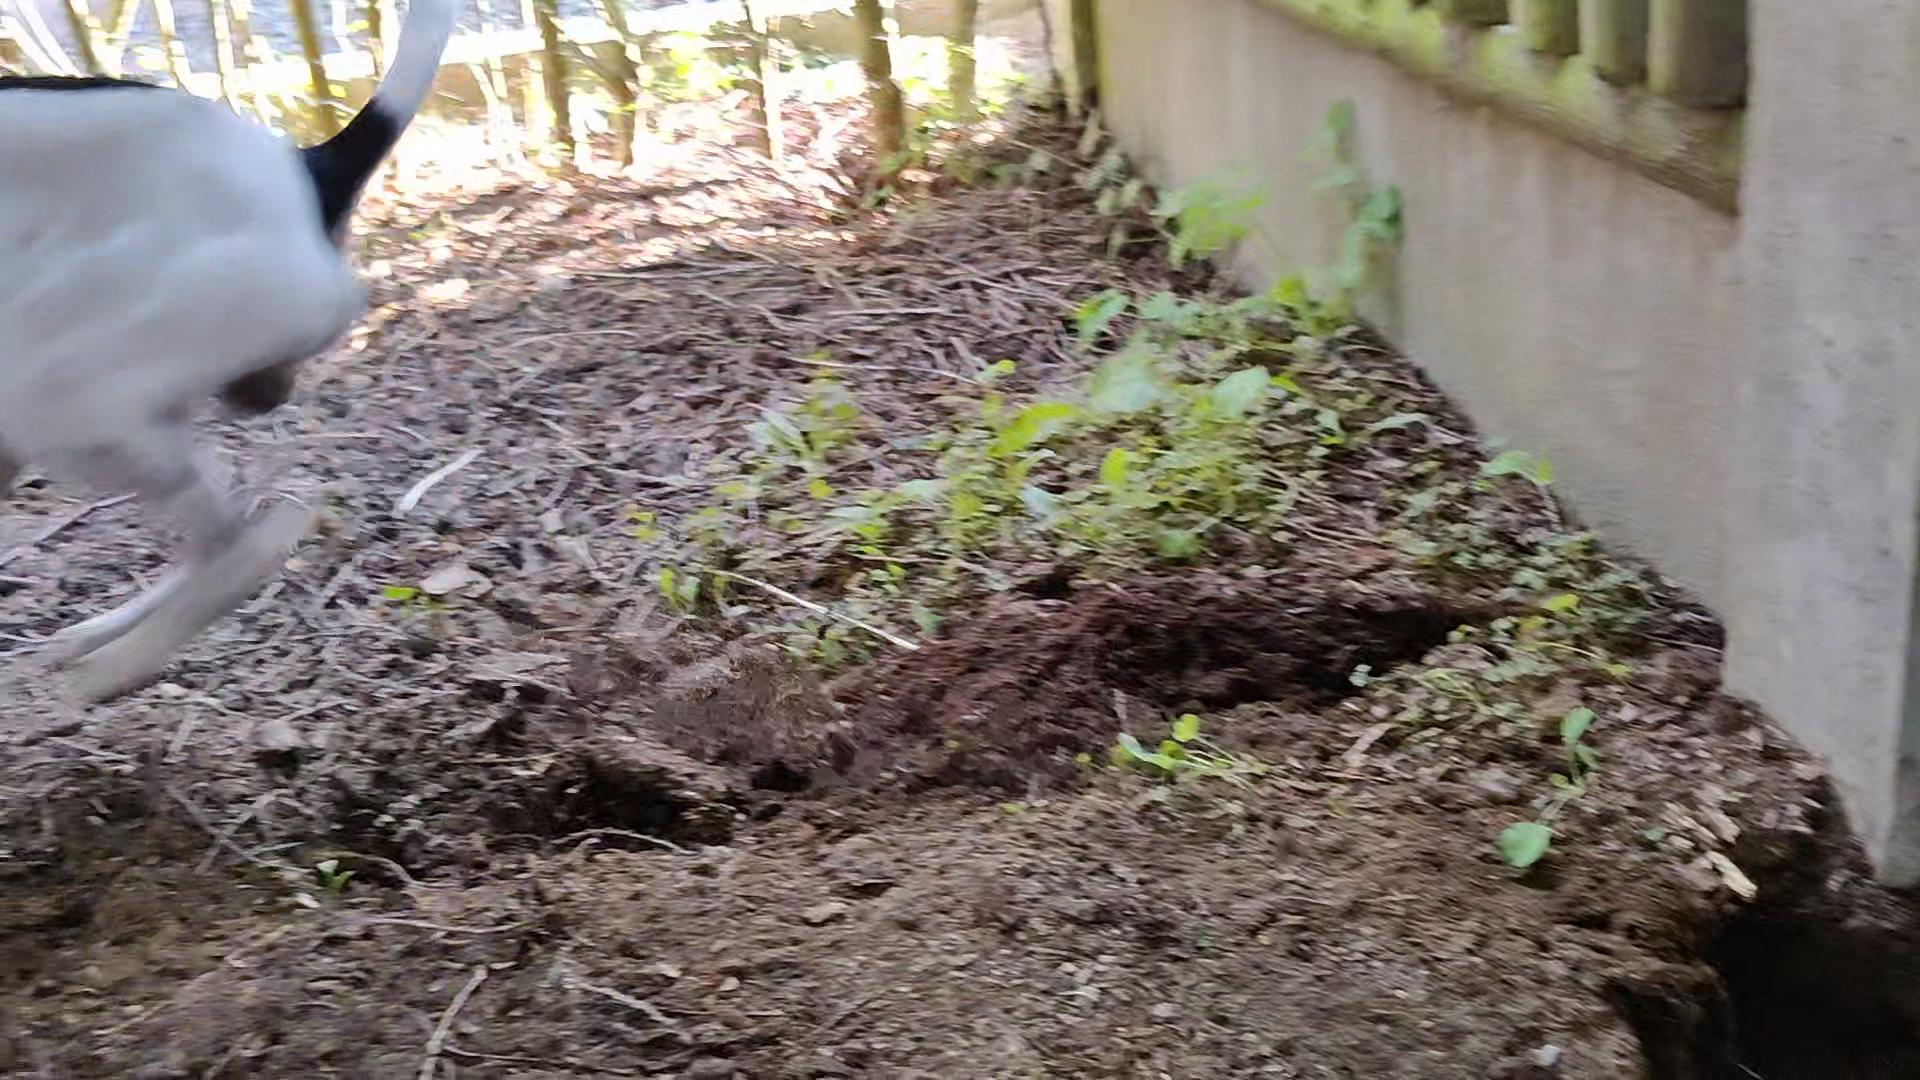Dog: (0, 0, 458, 709)
